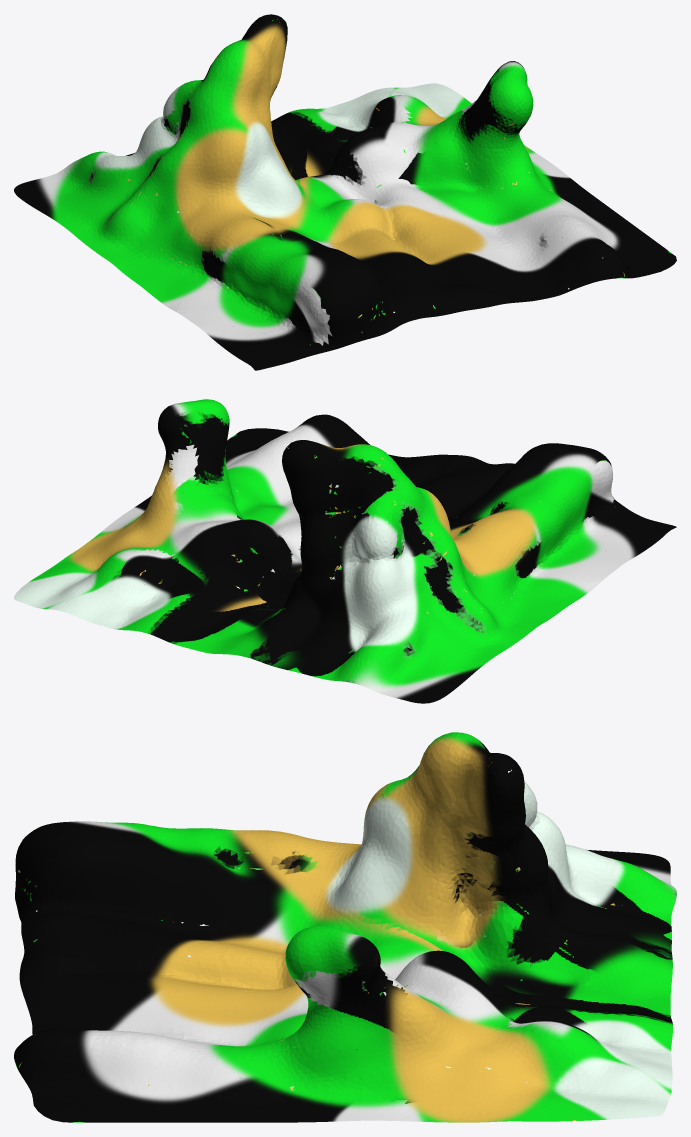
File: snake_terrain.glb
3 renders of one model, top to bottom at view 1: azimuth 30°, elevation 25°; view 2: azimuth 150°, elevation 25°; view 3: azimuth 270°, elevation 25°, orthographic. The views are drawn at different scales.
Visible parts, largest first — view 1: Plane; view 2: Plane; view 3: Plane.
Boxes of the visible parts, left/top/right/bottom form: Plane: left=14, top=14, right=676, bottom=370; Plane: left=14, top=399, right=676, bottom=703; Plane: left=14, top=732, right=676, bottom=1122.
Bounding box in the file's own units: 2.01 × 0.771 × 2.08.
1 material, 1 textured.
